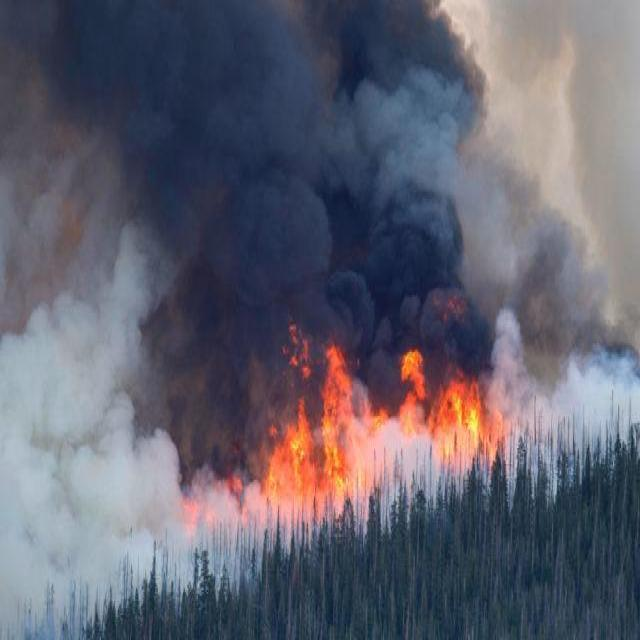Fire: (252, 302, 503, 514)
Smoke: (0, 0, 640, 639)
